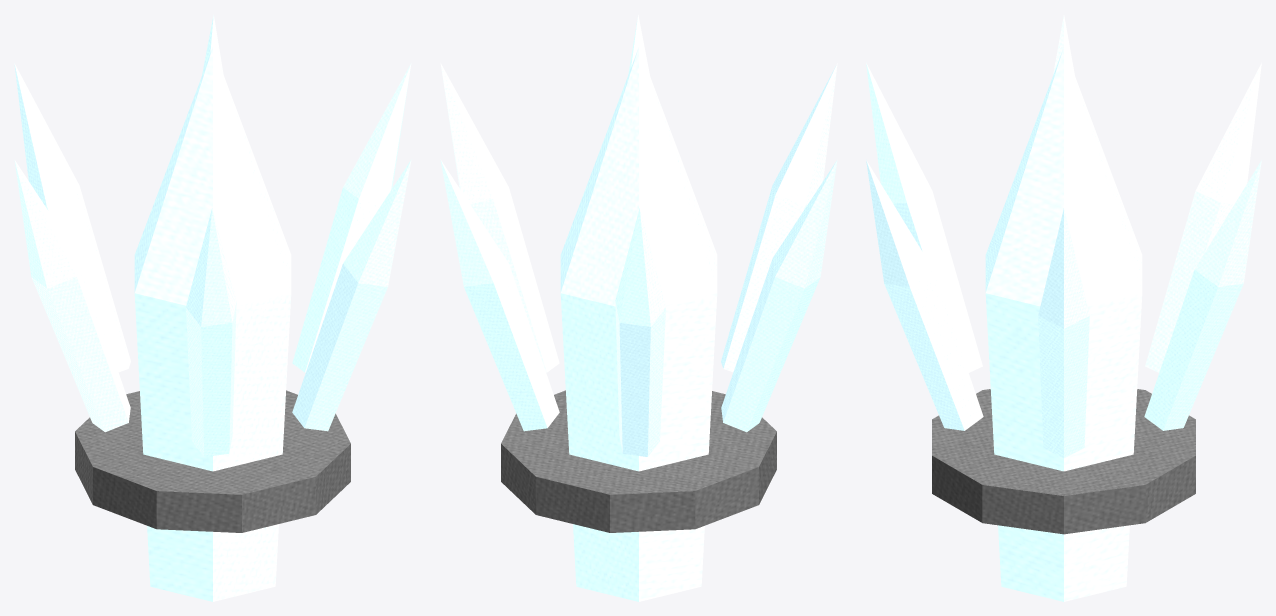
File: boss-moder-rimeheart.glb
The picture shows the model from 3 angles, left to right: view 1: azimuth 30°, elevation 25°; view 2: azimuth 150°, elevation 25°; view 3: azimuth 270°, elevation 25°; orthographic projection.
Visible parts, largest first — view 1: rime-core, rime-band, rime-spike-3, rime-spike-1, rime-spike-2, rime-spike-0, rime-spike-4; view 2: rime-core, rime-band, rime-spike-3, rime-spike-5, rime-spike-4, rime-spike-0, rime-spike-2; view 3: rime-core, rime-band, rime-spike-1, rime-spike-5, rime-spike-0, rime-spike-2, rime-spike-4.
Boxes of the visible parts, x1,y1,x2,y2 form: rime-core: (134, 47, 291, 601); rime-band: (75, 390, 350, 532); rime-spike-3: (14, 160, 130, 432); rime-spike-1: (292, 159, 411, 431); rime-spike-2: (186, 208, 236, 456); rime-spike-0: (292, 63, 411, 372); rime-spike-4: (14, 63, 130, 372); rime-core: (560, 47, 717, 601); rime-band: (501, 390, 776, 532); rime-spike-3: (721, 160, 837, 432); rime-spike-5: (440, 159, 559, 431); rime-spike-4: (615, 208, 665, 456); rime-spike-0: (440, 63, 559, 372); rime-spike-2: (721, 63, 837, 372); rime-core: (985, 47, 1142, 601); rime-band: (932, 389, 1195, 534); rime-spike-1: (866, 160, 983, 430); rime-spike-5: (1144, 160, 1261, 430); rime-spike-0: (1038, 208, 1089, 458); rime-spike-2: (866, 62, 982, 372); rime-spike-4: (1145, 62, 1261, 372).
Size of the model in its own units: 0.7603 by 0.96 by 0.6565.
Materials: 3 (3 with a texture image).
